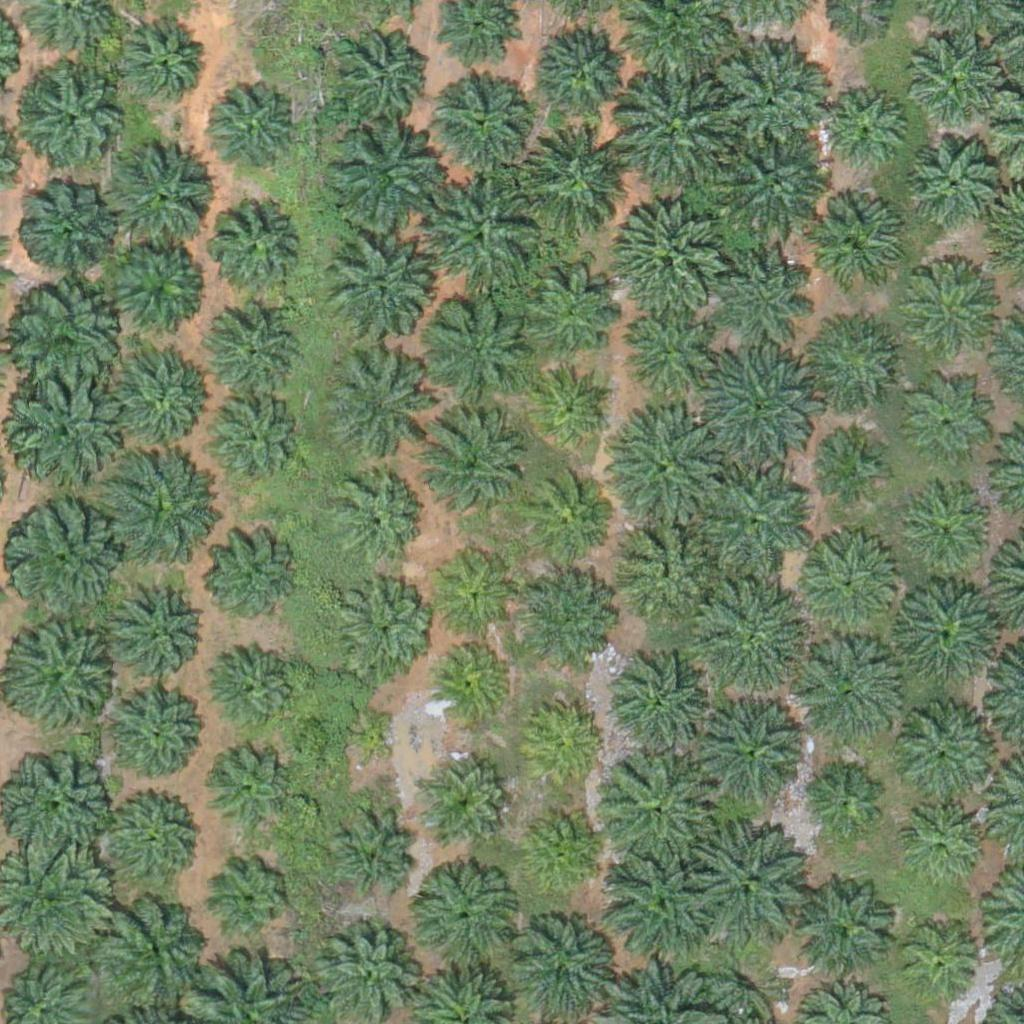Kelapa_Sawit: (602, 745, 727, 871), (601, 830, 726, 956), (689, 812, 814, 938), (890, 577, 1003, 691), (515, 125, 628, 239), (795, 532, 908, 645), (697, 581, 810, 694), (701, 347, 814, 460), (613, 76, 726, 189), (610, 196, 723, 309), (508, 256, 621, 369), (107, 450, 220, 563), (5, 377, 118, 490), (618, 414, 730, 528), (420, 290, 532, 404), (417, 406, 529, 520), (326, 122, 438, 236), (792, 638, 904, 752), (700, 465, 812, 578), (719, 127, 831, 240), (714, 40, 826, 153), (425, 181, 537, 294), (101, 138, 213, 251), (18, 66, 130, 179), (11, 285, 123, 398), (692, 696, 804, 809), (897, 700, 1009, 813), (717, 234, 817, 335), (537, 18, 637, 119), (321, 354, 421, 455), (197, 82, 297, 183), (202, 303, 302, 404), (203, 392, 303, 493), (112, 344, 212, 445), (104, 236, 204, 337), (7, 501, 107, 602), (8, 754, 108, 855), (511, 919, 611, 1020), (806, 196, 906, 296), (621, 517, 721, 617), (434, 72, 534, 172), (330, 574, 430, 674), (325, 241, 425, 341), (330, 25, 430, 125), (206, 197, 306, 297), (16, 178, 116, 278), (13, 623, 113, 723), (106, 787, 206, 887), (102, 904, 202, 1004), (318, 923, 418, 1023), (420, 863, 520, 963), (802, 885, 902, 985), (520, 577, 608, 666), (527, 364, 615, 452), (903, 486, 991, 574), (907, 32, 995, 120), (817, 86, 905, 174), (616, 310, 704, 398), (519, 476, 607, 564), (330, 472, 418, 560), (114, 586, 202, 674), (113, 18, 201, 106), (430, 637, 518, 725), (211, 638, 298, 727), (910, 262, 997, 350), (909, 136, 996, 224), (811, 317, 898, 405), (432, 552, 519, 640), (207, 531, 294, 619), (117, 694, 204, 782), (617, 659, 704, 747), (529, 810, 604, 886), (913, 388, 988, 464), (426, 767, 501, 843), (527, 706, 602, 782), (812, 769, 887, 845), (210, 866, 285, 941), (210, 750, 285, 825), (344, 817, 419, 892), (909, 807, 984, 882), (906, 932, 981, 1007), (820, 436, 883, 499), (726, 959, 788, 1022), (341, 719, 391, 769)
